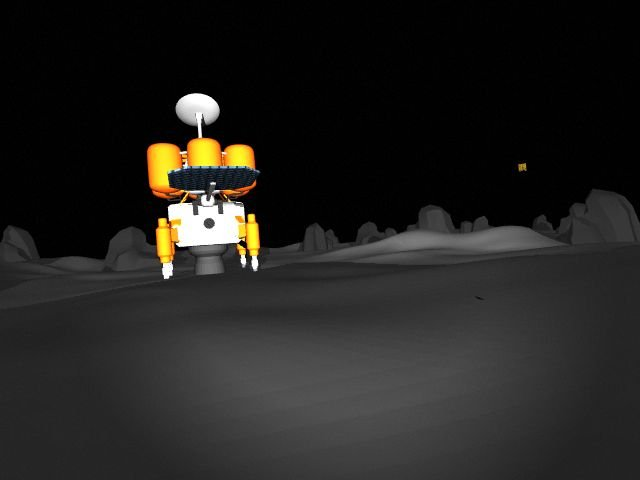homebase: (144, 92, 264, 283)
